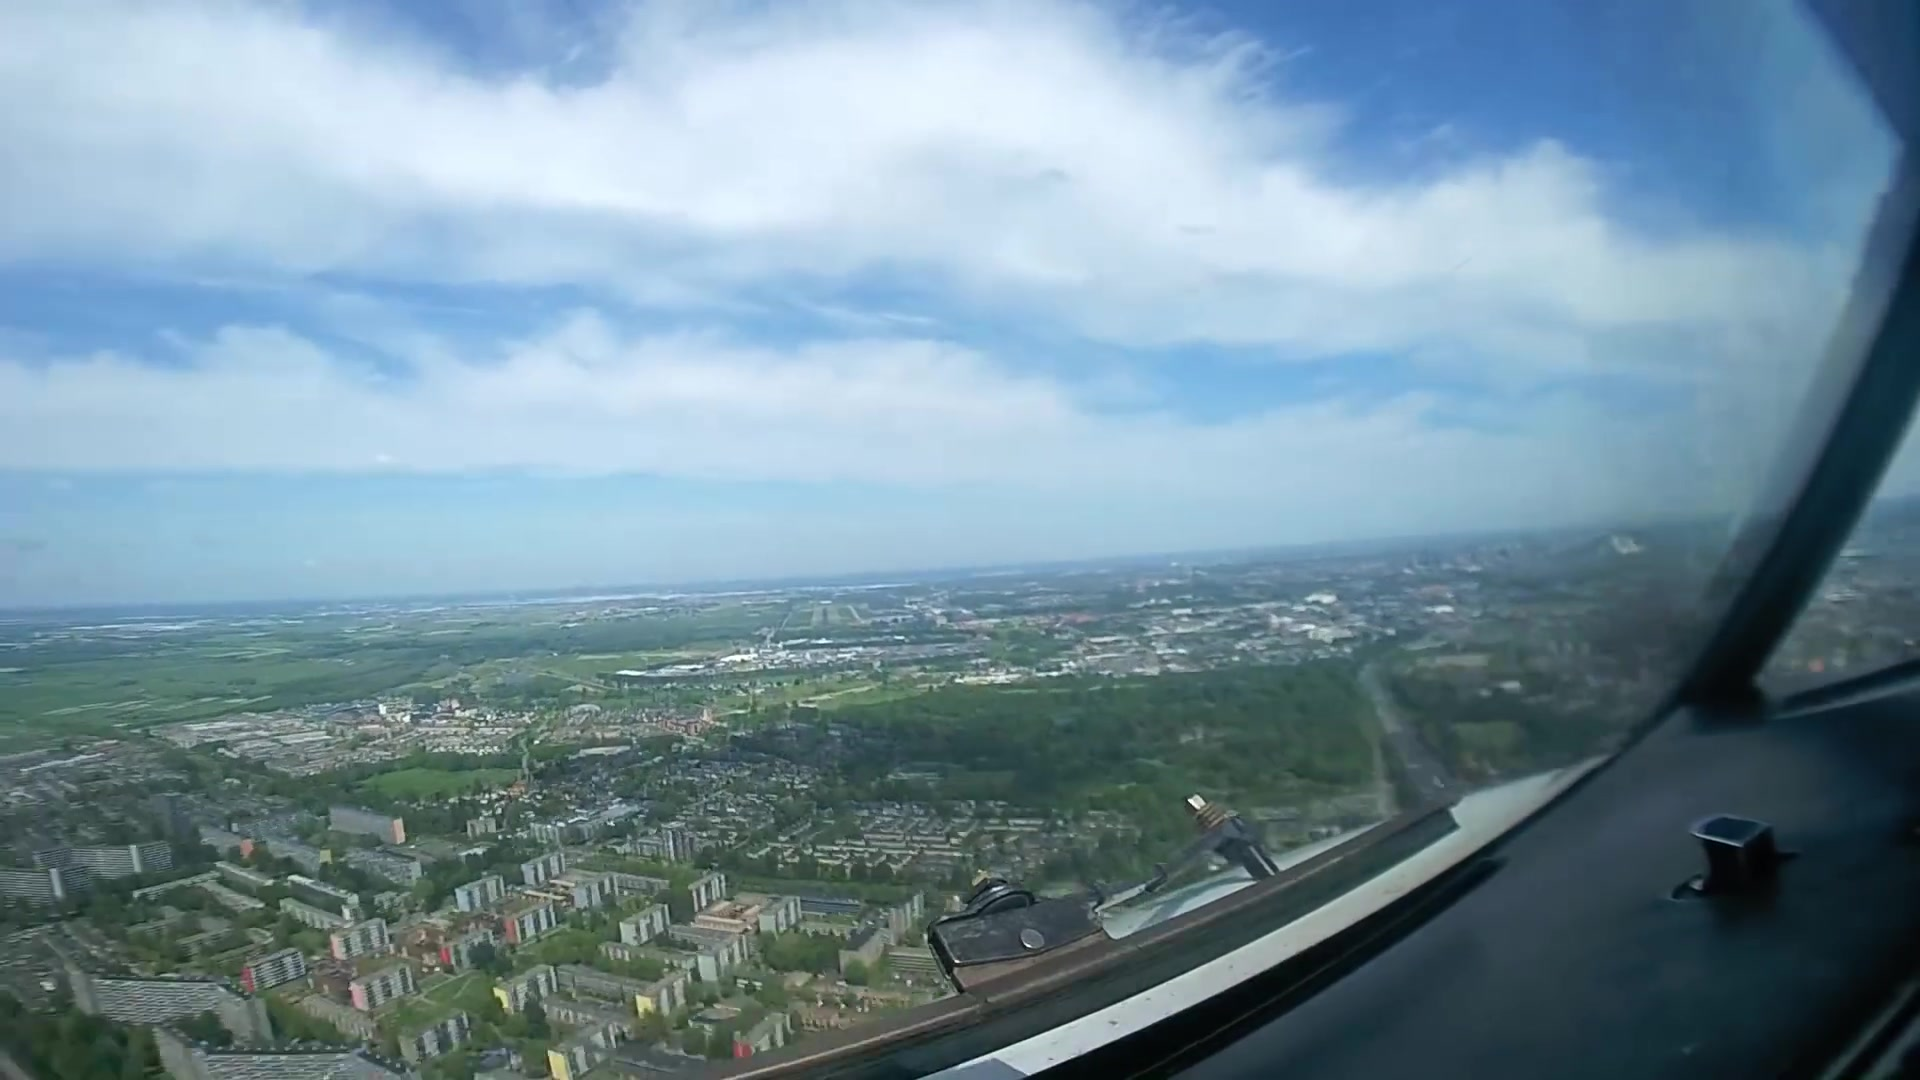runway: (818, 597, 833, 632)
